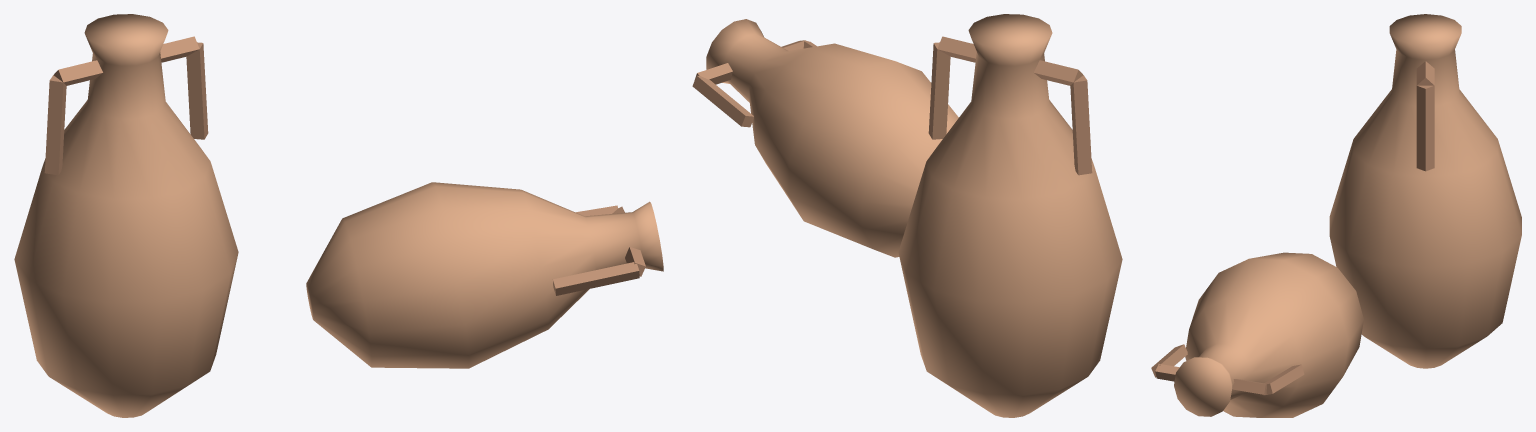
The model's file is Amphora.gltf.
The picture shows the model from 3 angles, left to right: view 1: azimuth 30°, elevation 25°; view 2: azimuth 150°, elevation 25°; view 3: azimuth 270°, elevation 25°; orthographic projection. The views are drawn at different scales.
Parts seen in each view (by area): view 1: Amphora; view 2: Amphora; view 3: Amphora.
Part boxes in pixels (x1,y1,x2,y2): Amphora: [14, 14, 663, 417]; Amphora: [692, 14, 1122, 417]; Amphora: [1151, 14, 1521, 417].
Size of the model in its own units: 1.05 by 0.74 by 0.7516.
